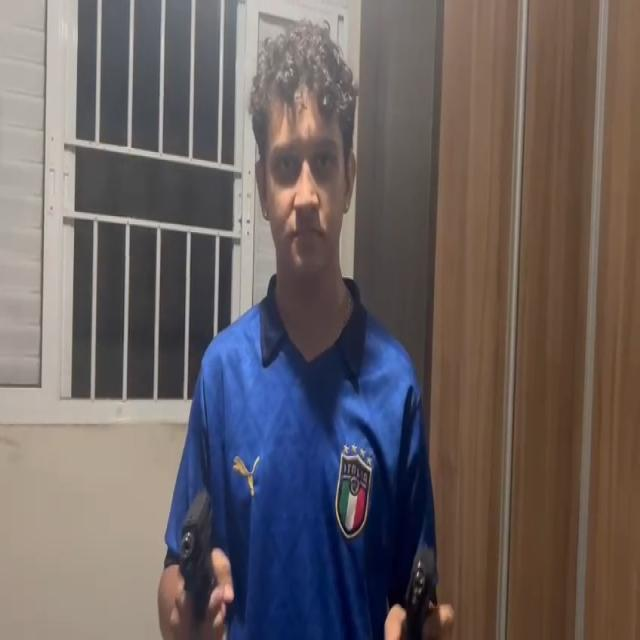guns: (178, 489, 216, 616), (399, 540, 438, 640)
